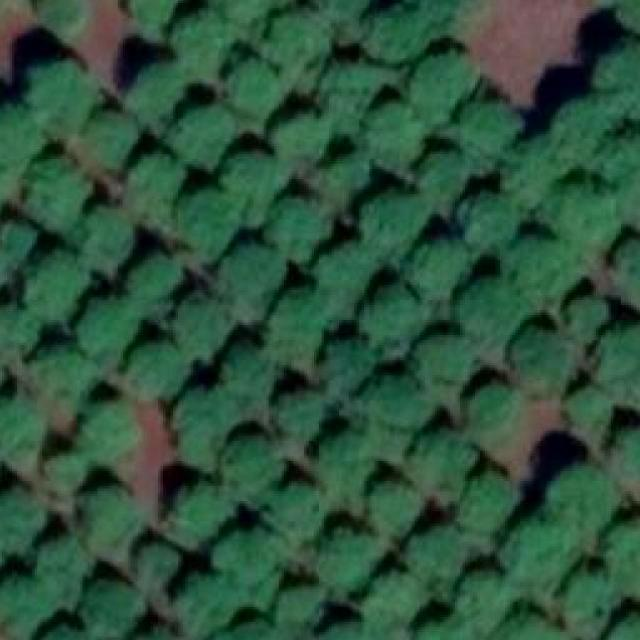Tree: (27, 244, 96, 315), (510, 327, 579, 396), (226, 242, 287, 320), (555, 182, 621, 253), (321, 426, 379, 504), (410, 429, 478, 494), (178, 8, 244, 74), (27, 154, 93, 219), (168, 484, 234, 549), (271, 295, 329, 368), (178, 395, 237, 466), (75, 295, 141, 358), (319, 526, 382, 592), (223, 154, 284, 222), (362, 288, 426, 351), (415, 53, 480, 114), (500, 521, 566, 580), (226, 436, 287, 499), (264, 16, 324, 80), (550, 469, 614, 529), (175, 293, 234, 358), (126, 152, 186, 215), (79, 207, 138, 271), (40, 536, 94, 605), (364, 197, 425, 258), (372, 378, 433, 439), (178, 104, 237, 167), (128, 345, 191, 404), (410, 239, 473, 298), (279, 197, 337, 261), (317, 249, 377, 310), (418, 519, 478, 580), (218, 526, 282, 582), (508, 229, 564, 293), (178, 575, 237, 635), (324, 63, 382, 124), (0, 103, 55, 167), (503, 139, 569, 192), (463, 101, 523, 159), (557, 94, 616, 152), (80, 398, 141, 454), (372, 569, 428, 630), (133, 62, 188, 124), (317, 144, 380, 197), (35, 62, 99, 114), (562, 569, 621, 625), (82, 488, 138, 546), (369, 104, 428, 159), (361, 18, 430, 64), (462, 192, 520, 246), (372, 481, 426, 539), (592, 38, 640, 103), (317, 338, 372, 394), (460, 569, 515, 625), (225, 348, 274, 409), (90, 582, 146, 635), (274, 112, 329, 165), (274, 486, 327, 541), (468, 282, 518, 340), (0, 576, 45, 640), (465, 385, 518, 439), (228, 63, 279, 119), (601, 516, 640, 587), (128, 251, 183, 300), (423, 152, 473, 205), (420, 333, 470, 386), (470, 476, 523, 526), (0, 488, 47, 544), (603, 325, 640, 396), (90, 109, 141, 159), (0, 400, 47, 453), (279, 582, 324, 637), (565, 382, 614, 431), (405, 0, 485, 30), (274, 393, 327, 437), (32, 358, 93, 396), (186, 207, 227, 263), (608, 423, 640, 488), (570, 298, 614, 341), (313, 0, 376, 30), (0, 304, 42, 348), (47, 451, 93, 491), (128, 0, 183, 33), (45, 0, 91, 38), (0, 218, 39, 262), (138, 544, 183, 582), (613, 239, 640, 300), (508, 612, 562, 640), (616, 154, 640, 217), (415, 617, 478, 640), (25, 624, 106, 640), (327, 617, 380, 640), (218, 0, 282, 18), (0, 340, 12, 406), (611, 617, 640, 640)
